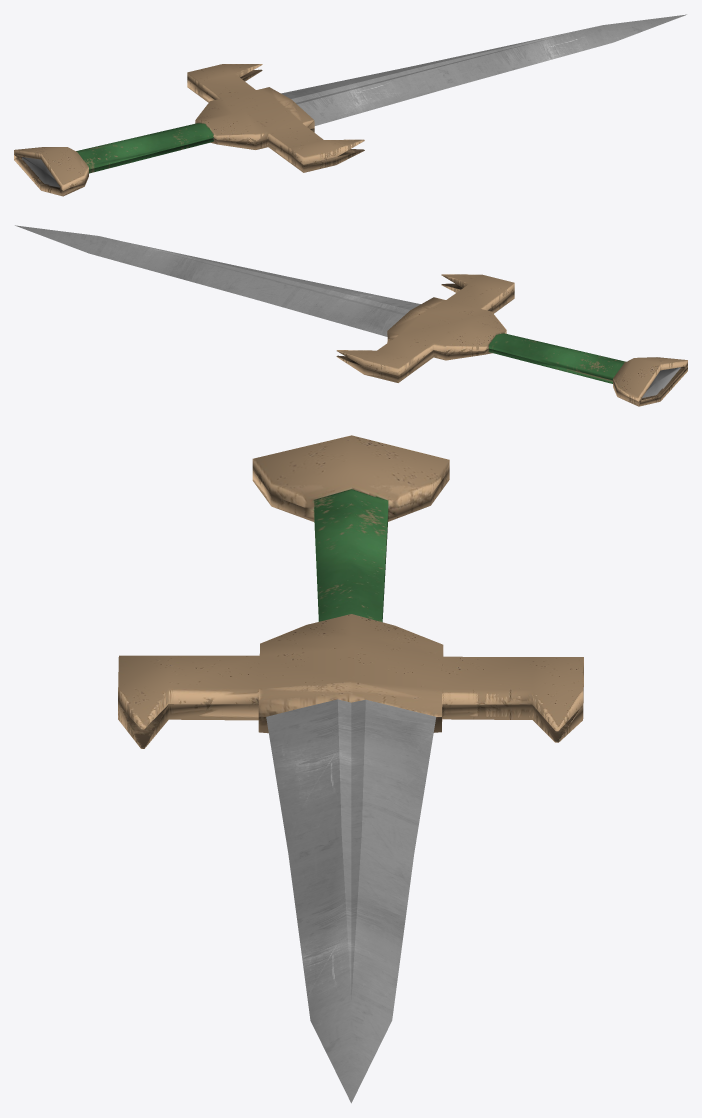
Rendered from hançer2.fbx.
The picture shows the model from 3 angles, top to bottom: view 1: azimuth 30°, elevation 25°; view 2: azimuth 150°, elevation 25°; view 3: azimuth 270°, elevation 25°; orthographic projection. The views are drawn at different scales.
Visible parts, largest first — view 1: SM_Dagger; view 2: SM_Dagger; view 3: SM_Dagger.
Part boxes in pixels (x1,y1,x2,y2): SM_Dagger: (14, 14, 686, 196); SM_Dagger: (15, 225, 687, 406); SM_Dagger: (118, 435, 583, 1103).
Size of the model in its own units: 200 by 10.97 by 62.11.
1 material, 1 textured.
